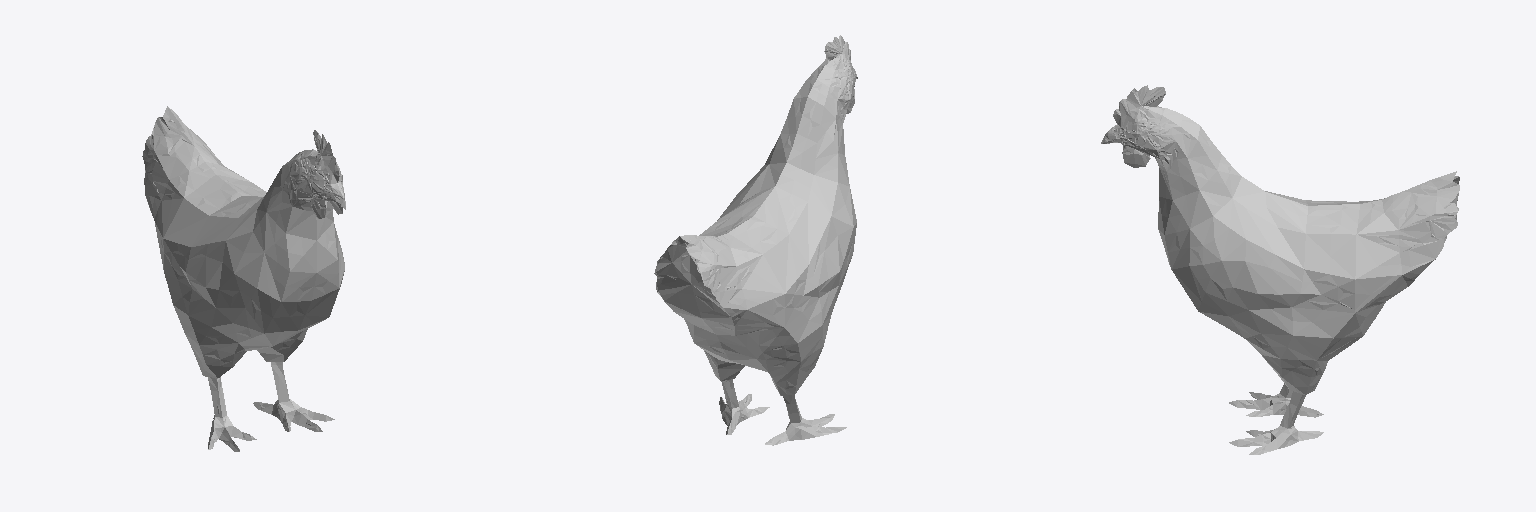
Rendered from chicken.obj.
3 renders of one model, left to right at view 1: azimuth 30°, elevation 25°; view 2: azimuth 150°, elevation 25°; view 3: azimuth 270°, elevation 25°, orthographic.
Visible parts, largest first — view 1: chicken_lp; view 2: chicken_lp; view 3: chicken_lp.
Boxes of the visible parts, <box> form: chicken_lp: <box>142,106,345,451</box>; chicken_lp: <box>654,35,857,445</box>; chicken_lp: <box>1101,85,1459,454</box>.
Size of the model in its own units: 27.16 by 69.58 by 66.45.